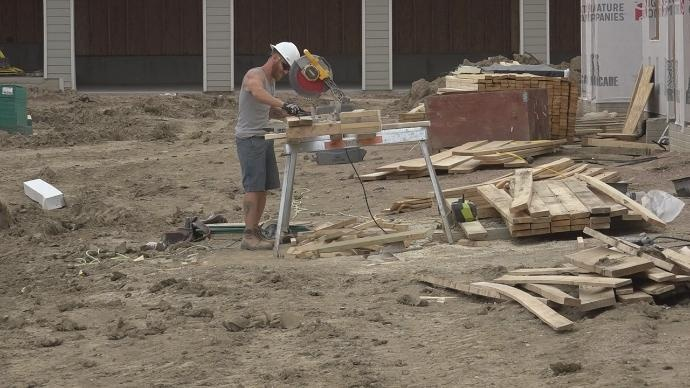white: (266, 40, 300, 78)
